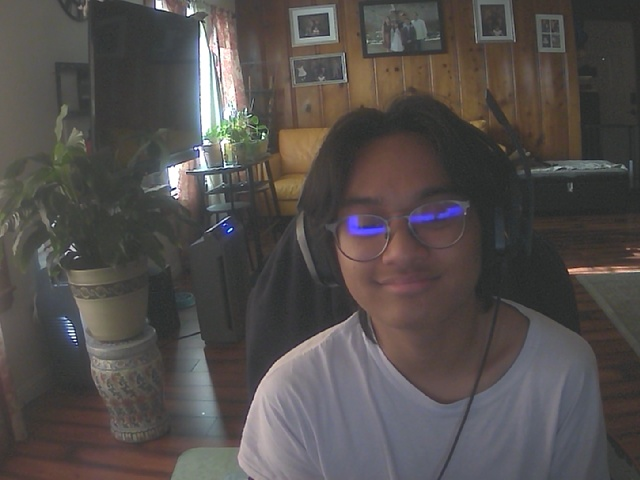happy: (332, 121, 491, 329)
